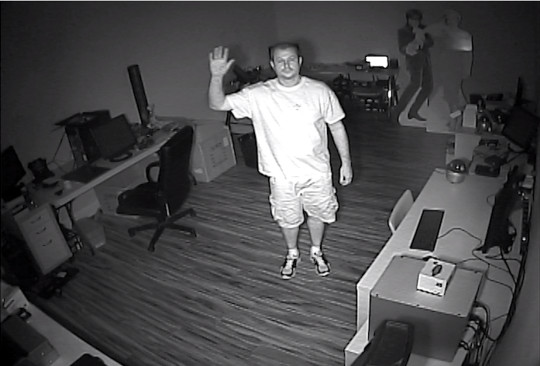person: (202, 28, 352, 298), (387, 7, 439, 133)
